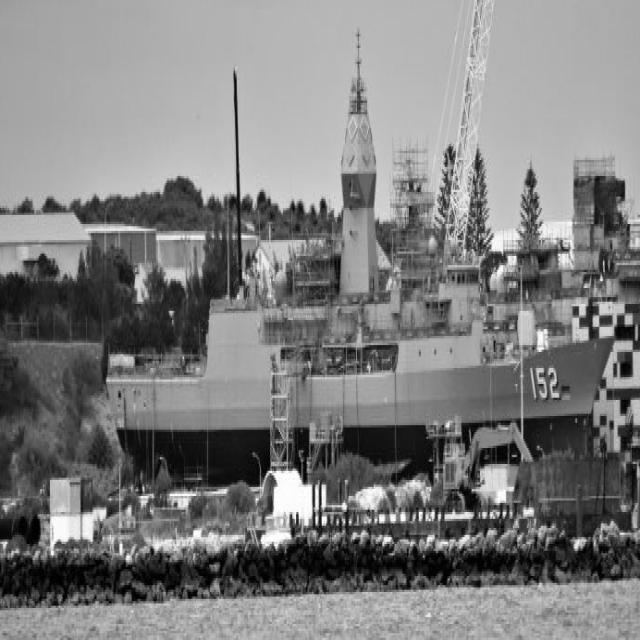Fragata: (100, 33, 620, 495)
